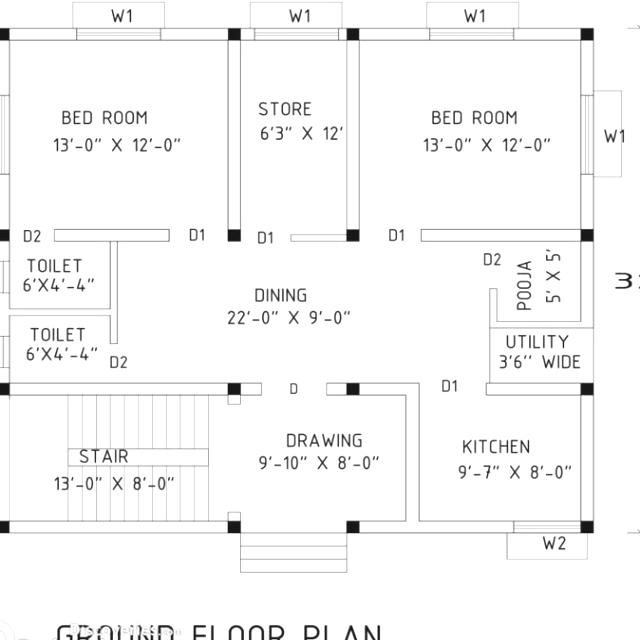Blueprint: (0, 10, 612, 547)
column: (223, 379, 246, 399), (342, 227, 366, 246), (575, 24, 597, 44), (224, 226, 244, 246), (343, 518, 363, 538), (578, 380, 598, 400), (575, 518, 597, 536), (344, 380, 363, 400), (224, 518, 247, 534), (344, 24, 362, 44), (576, 226, 596, 244), (226, 24, 244, 42), (0, 378, 14, 396), (0, 518, 14, 535), (0, 25, 13, 43), (0, 225, 13, 243)
wall: (8, 381, 232, 398), (344, 39, 363, 233), (6, 519, 230, 535), (226, 37, 243, 232), (356, 518, 518, 536), (402, 394, 424, 522), (418, 227, 584, 243), (578, 392, 596, 524), (52, 228, 173, 244), (483, 380, 583, 398), (578, 239, 596, 331), (7, 24, 82, 44), (106, 239, 120, 345), (6, 305, 112, 319), (357, 25, 433, 44), (0, 393, 11, 521), (158, 26, 230, 44), (511, 24, 583, 42), (577, 37, 597, 97), (356, 380, 422, 398), (494, 318, 584, 330), (578, 171, 594, 231), (0, 35, 12, 96), (288, 232, 348, 244), (0, 171, 12, 230), (486, 284, 501, 330), (0, 290, 10, 338), (324, 380, 349, 398), (241, 380, 265, 397), (240, 26, 258, 42), (0, 364, 13, 384), (0, 240, 11, 263)
